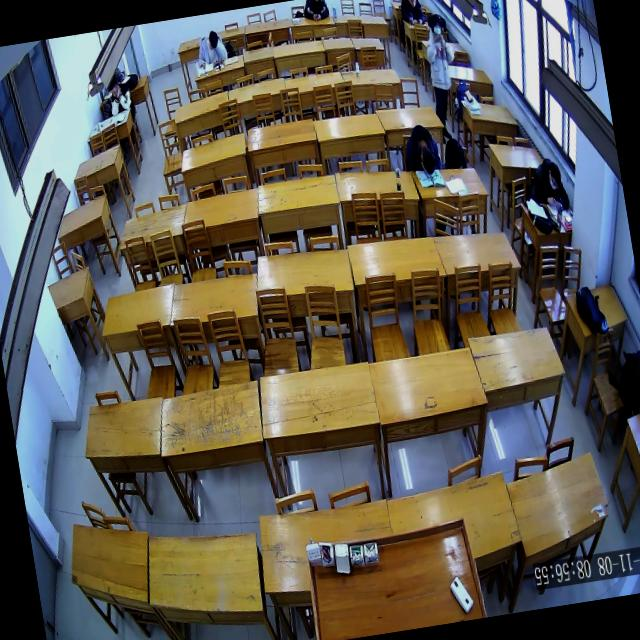bow: (399, 122, 442, 177)
down: (547, 161, 563, 191), (207, 30, 220, 50), (110, 81, 120, 98), (407, 0, 417, 8)
lookup: (428, 13, 444, 38)
sit: (420, 11, 466, 138), (528, 155, 570, 214), (193, 28, 229, 68), (106, 79, 135, 115), (398, 0, 426, 28)
